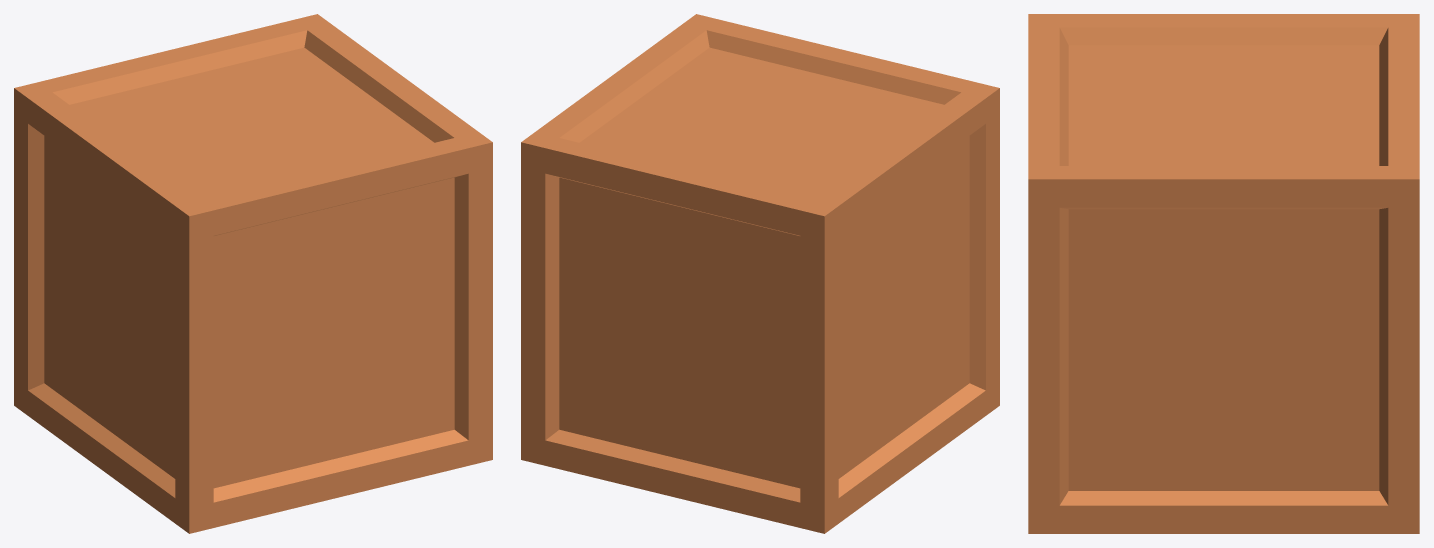
Rendered from BigBox.fbx.
3 renders of one model, left to right at view 1: azimuth 30°, elevation 25°; view 2: azimuth 150°, elevation 25°; view 3: azimuth 270°, elevation 25°, orthographic. The views are drawn at different scales.
Visible parts, largest first — view 1: BigBox; view 2: BigBox; view 3: BigBox.
Boxes of the visible parts, x1=… form: BigBox: x1=14, y1=14, x2=492, y2=533; BigBox: x1=521, y1=14, x2=999, y2=533; BigBox: x1=1028, y1=14, x2=1419, y2=533.
Bounding box in the file's own units: 100 × 100 × 100.
